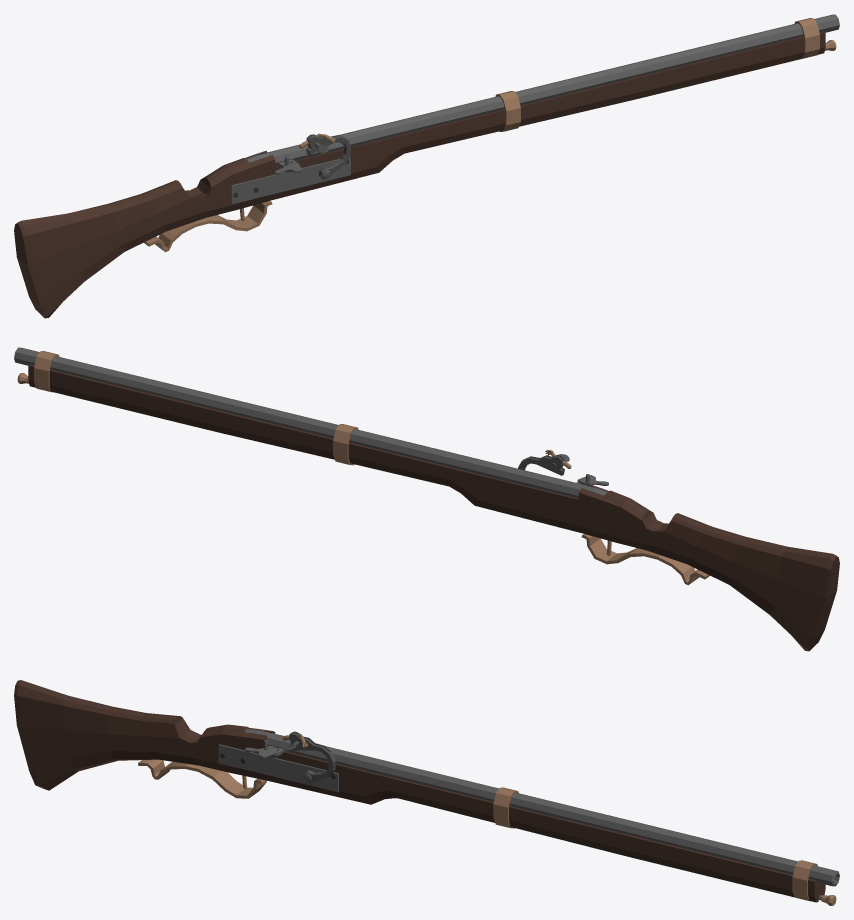
File: Musket.fbx
3 renders of one model, top to bottom at view 1: azimuth 30°, elevation 25°; view 2: azimuth 150°, elevation 25°; view 3: azimuth 330°, elevation 25°, orthographic.
Parts seen in each view (by area): view 1: CP_Renaissance_Matchlock_Base, CP_Renaissance_Matchlock_Hammer; view 2: CP_Renaissance_Matchlock_Base, CP_Renaissance_Matchlock_Hammer; view 3: CP_Renaissance_Matchlock_Base, CP_Renaissance_Matchlock_Hammer.
Part boxes in pixels (x1,y1,x2,y2): CP_Renaissance_Matchlock_Base: (14,14,839,318); CP_Renaissance_Matchlock_Hammer: (299,133,351,179); CP_Renaissance_Matchlock_Base: (14,347,839,651); CP_Renaissance_Matchlock_Hammer: (518,450,571,475); CP_Renaissance_Matchlock_Base: (14,680,839,905); CP_Renaissance_Matchlock_Hammer: (282,731,335,783).
Bounding box in the file's own units: 770 × 114 × 43.41.
